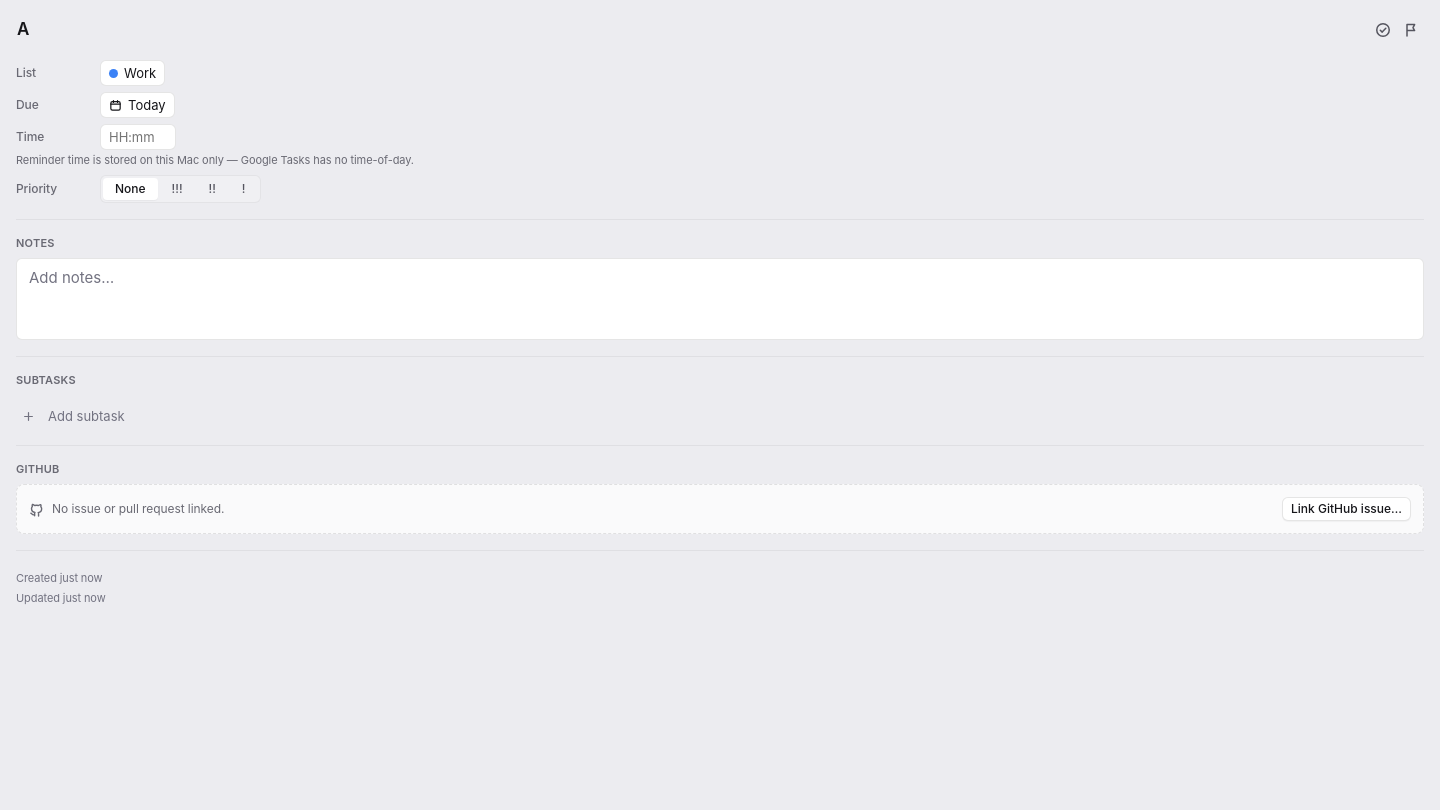
Test: DetailPane › offers a due date field that opens the date picker
The width and height of the screenshot is (1440, 810).
Step 1. Click the button named "Due" → coordinates (137, 105), box [100,92,174,118]
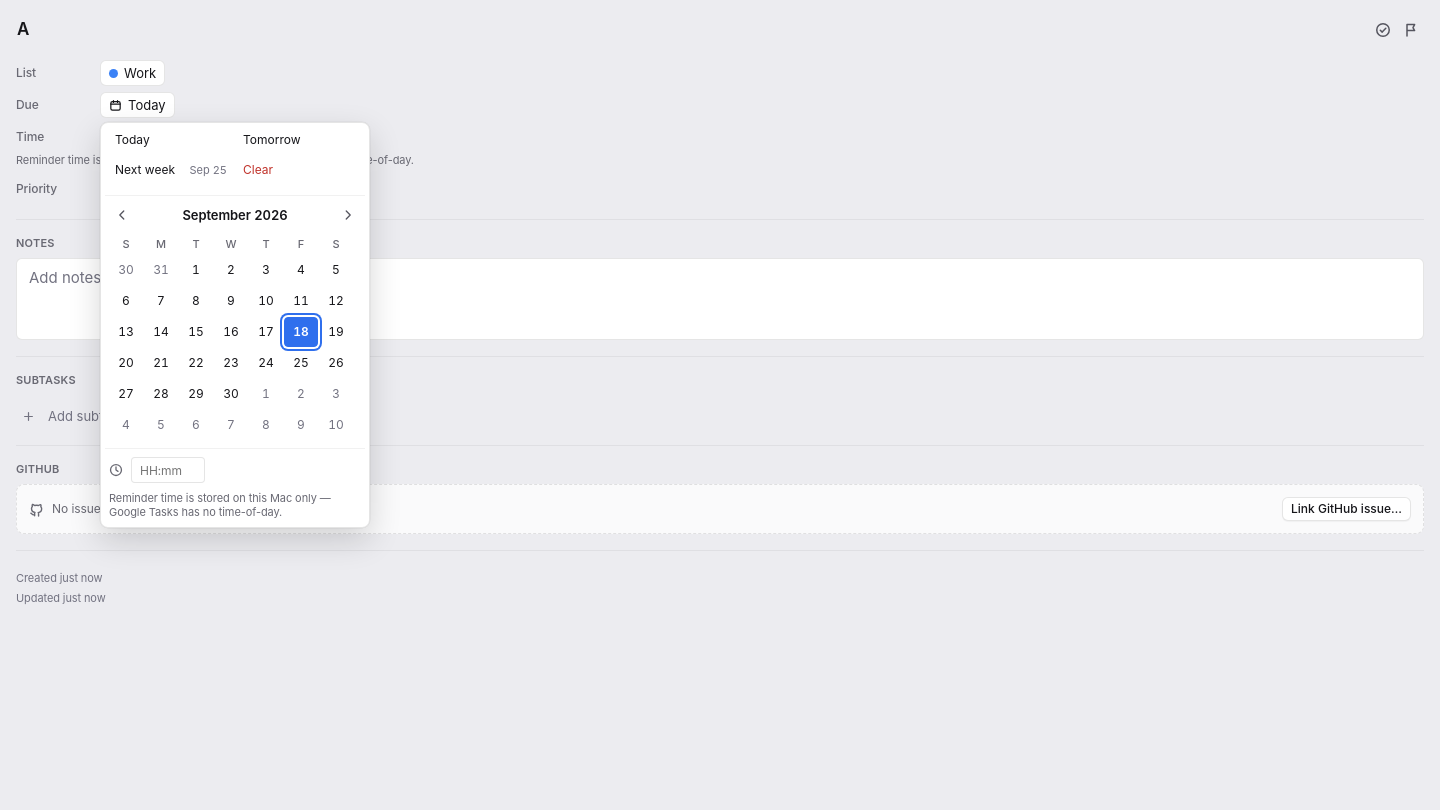
Check: the table is shown, box [109,234,361,440]
Check: the button "Tomorrow" is shown, box [237,131,361,157]
Check: the button "Clear" is shown, box [237,161,361,187]
